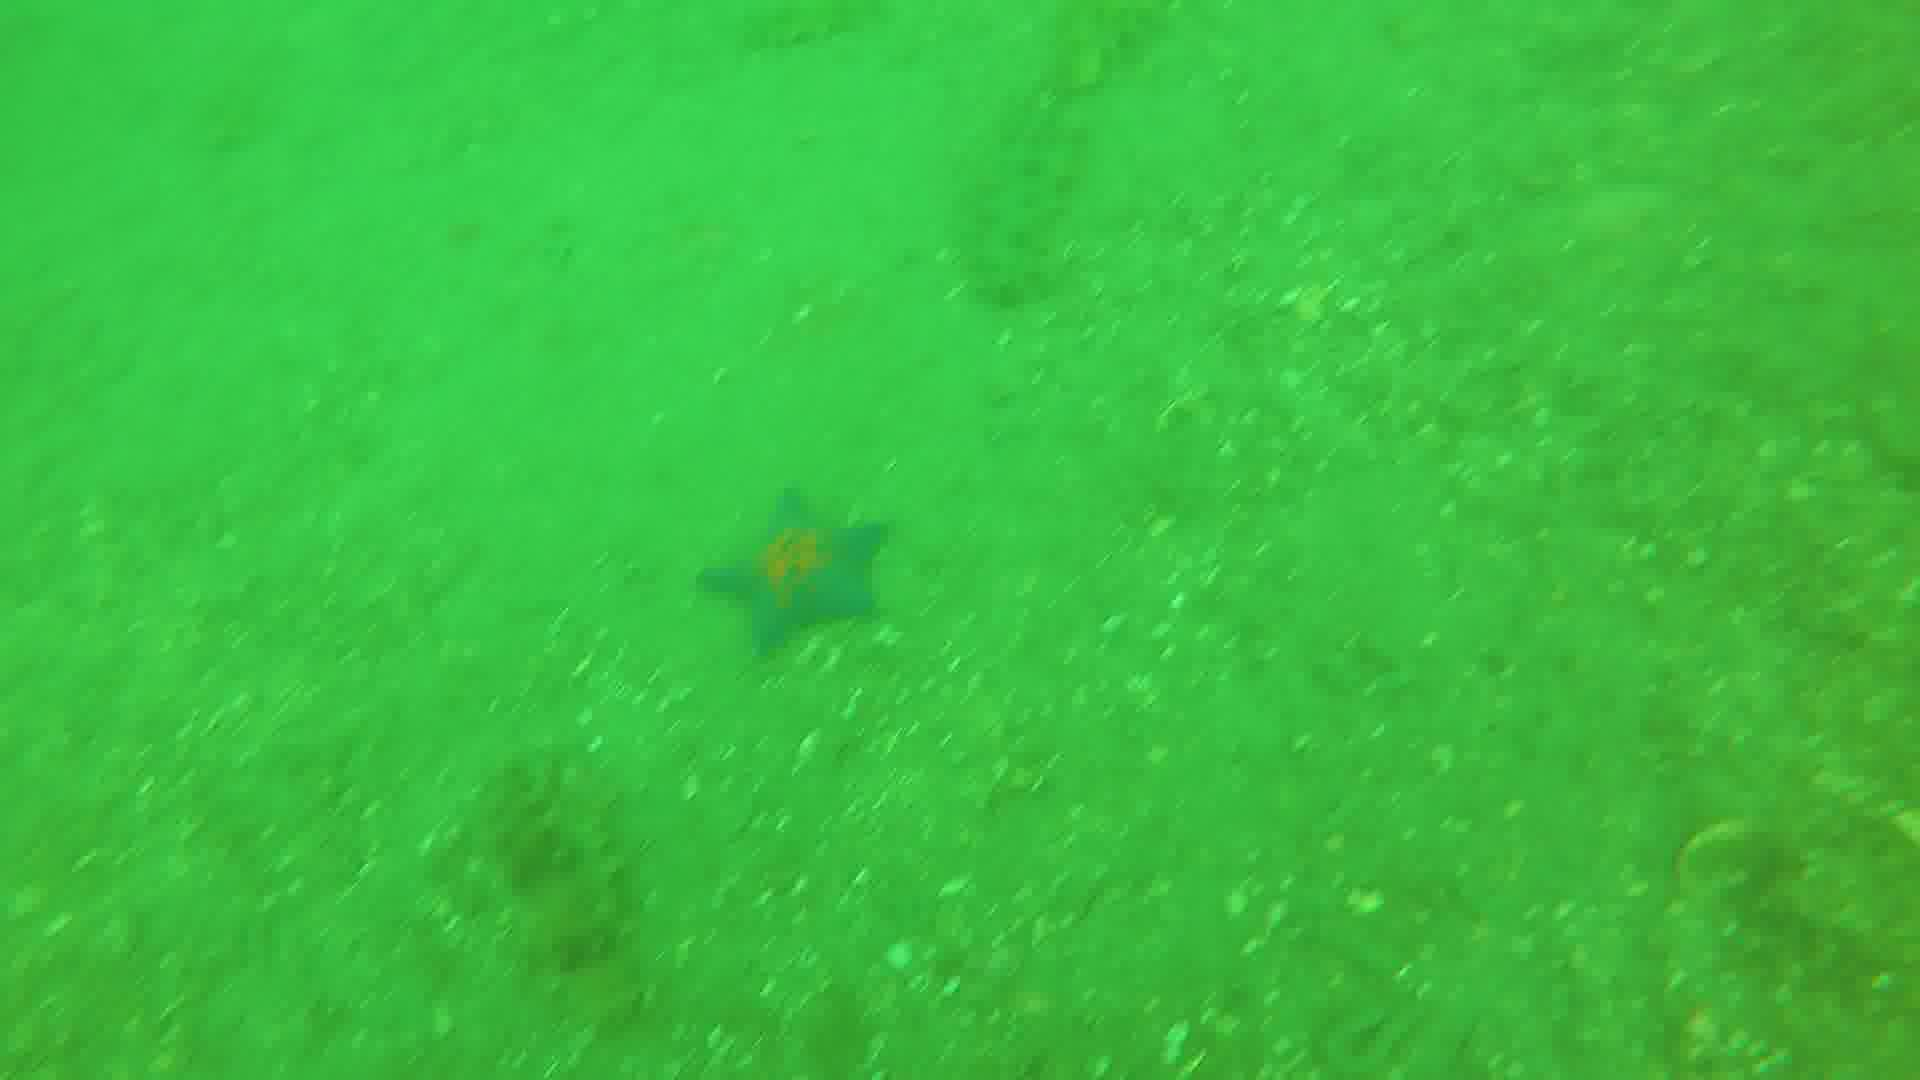holothurian: (977, 1, 1150, 295), (480, 758, 621, 963)
starfish: (691, 491, 877, 657)
